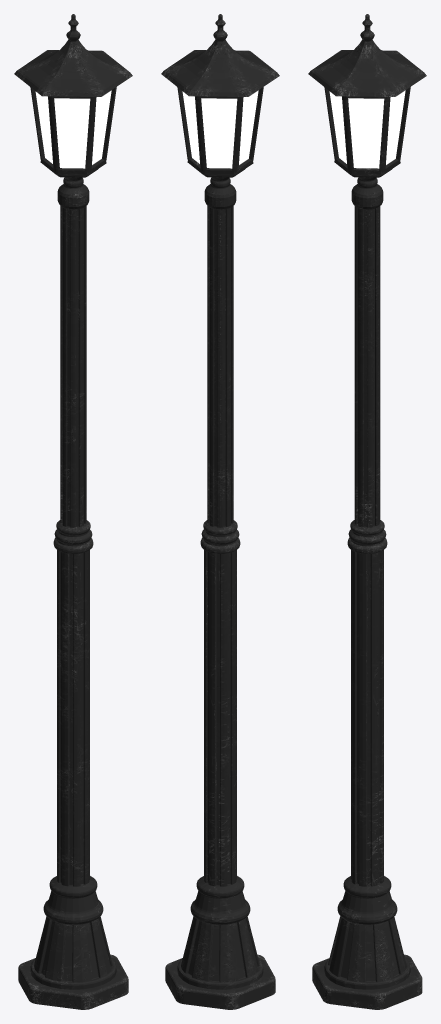
File: old_streetlight.glb
The picture shows the model from 3 angles, left to right: view 1: azimuth 30°, elevation 25°; view 2: azimuth 210°, elevation 25°; view 3: azimuth 270°, elevation 25°; orthographic projection.
Parts seen in each view (by area): view 1: Streetlight_TEXTURE_0, Streetlight_GLASS_0; view 2: Streetlight_TEXTURE_0, Streetlight_GLASS_0; view 3: Streetlight_TEXTURE_0, Streetlight_GLASS_0.
Boxes of the visible parts, <box> form: Streetlight_TEXTURE_0: <box>14,14,132,1009</box>; Streetlight_GLASS_0: <box>35,90,111,168</box>; Streetlight_TEXTURE_0: <box>161,14,279,1009</box>; Streetlight_GLASS_0: <box>182,90,258,168</box>; Streetlight_TEXTURE_0: <box>308,14,426,1009</box>; Streetlight_GLASS_0: <box>329,90,405,168</box>.
Size of what is drawn, in the model's own units: 0.1572 by 1.51 by 0.1674.
Materials: 2 (1 with a texture image).
